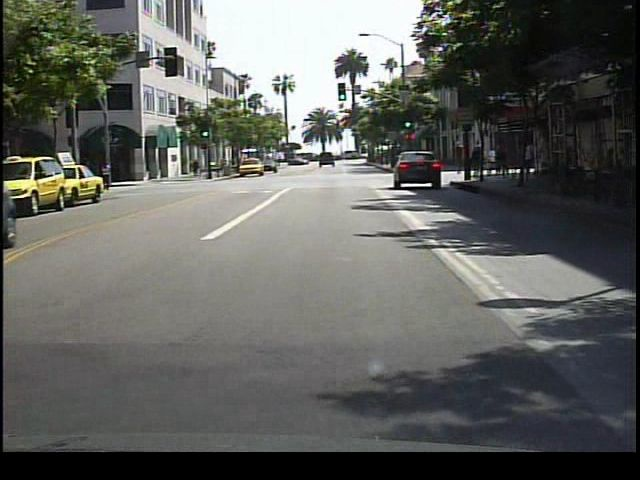person: (449, 139, 466, 181)
